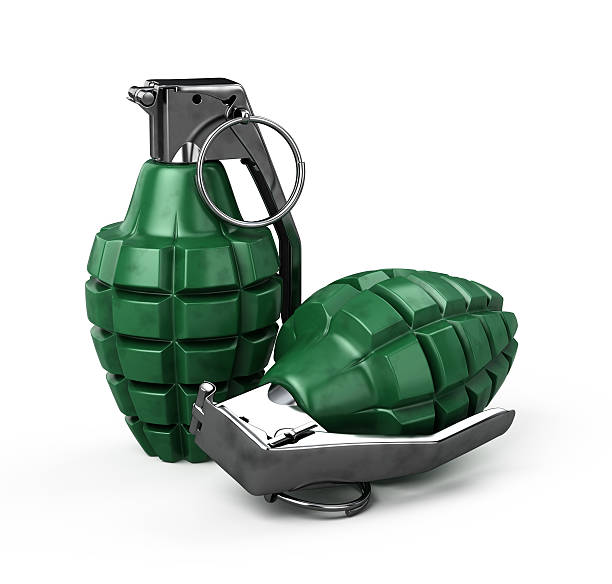e1: (79, 76, 301, 485)
